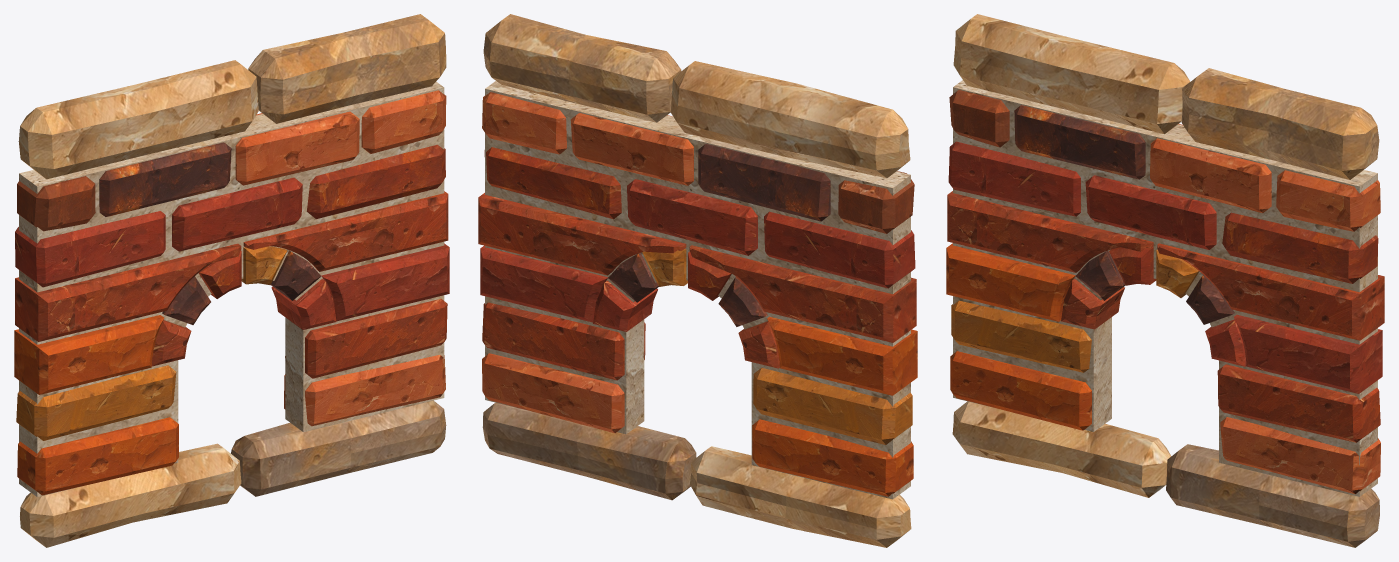
The model's file is railing_narrow__clay_brick.glb.
The picture shows the model from 3 angles, left to right: view 1: azimuth 30°, elevation 25°; view 2: azimuth 150°, elevation 25°; view 3: azimuth 330°, elevation 25°; orthographic projection.
Visible parts, largest first — view 1: model; view 2: model; view 3: model.
Boxes of the visible parts, x1,y1,x2,y2 form: model: (14,14,449,547); model: (478,14,917,547); model: (946,14,1384,547).
Bounding box in the file's own units: 0.984 × 0.984 × 0.1362.
Materials: 12 (12 with a texture image).
